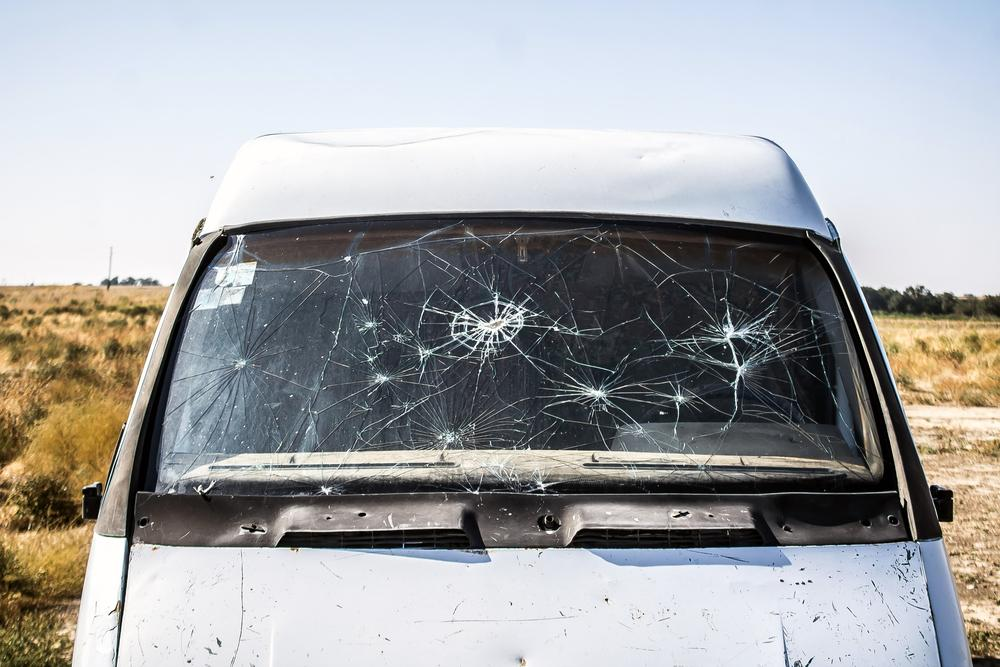dent: (280, 128, 486, 150)
glass shatter: (156, 217, 887, 496)
scratch: (117, 544, 944, 667)
